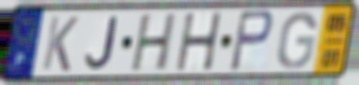G: (275, 10, 319, 71)
H: (128, 11, 179, 75), (174, 10, 225, 74)
J: (83, 15, 119, 72)
K: (39, 14, 81, 74)
P: (227, 8, 275, 75)
